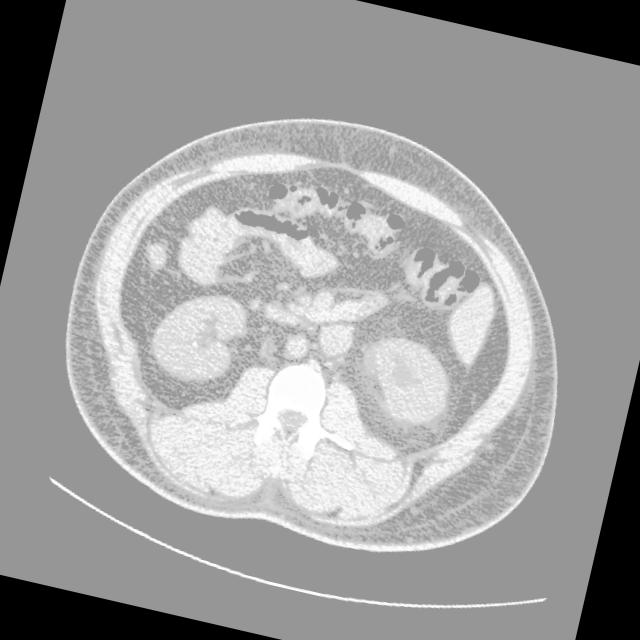STONE: (151, 103, 574, 399)
